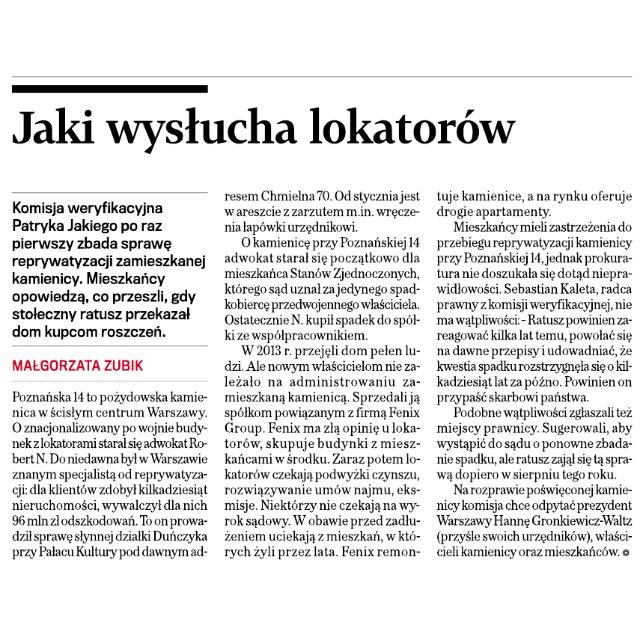author: (9, 351, 163, 377)
body: (428, 188, 640, 566), (218, 187, 424, 565), (5, 386, 212, 566)
lead: (9, 196, 213, 344)
title: (8, 99, 528, 159)
